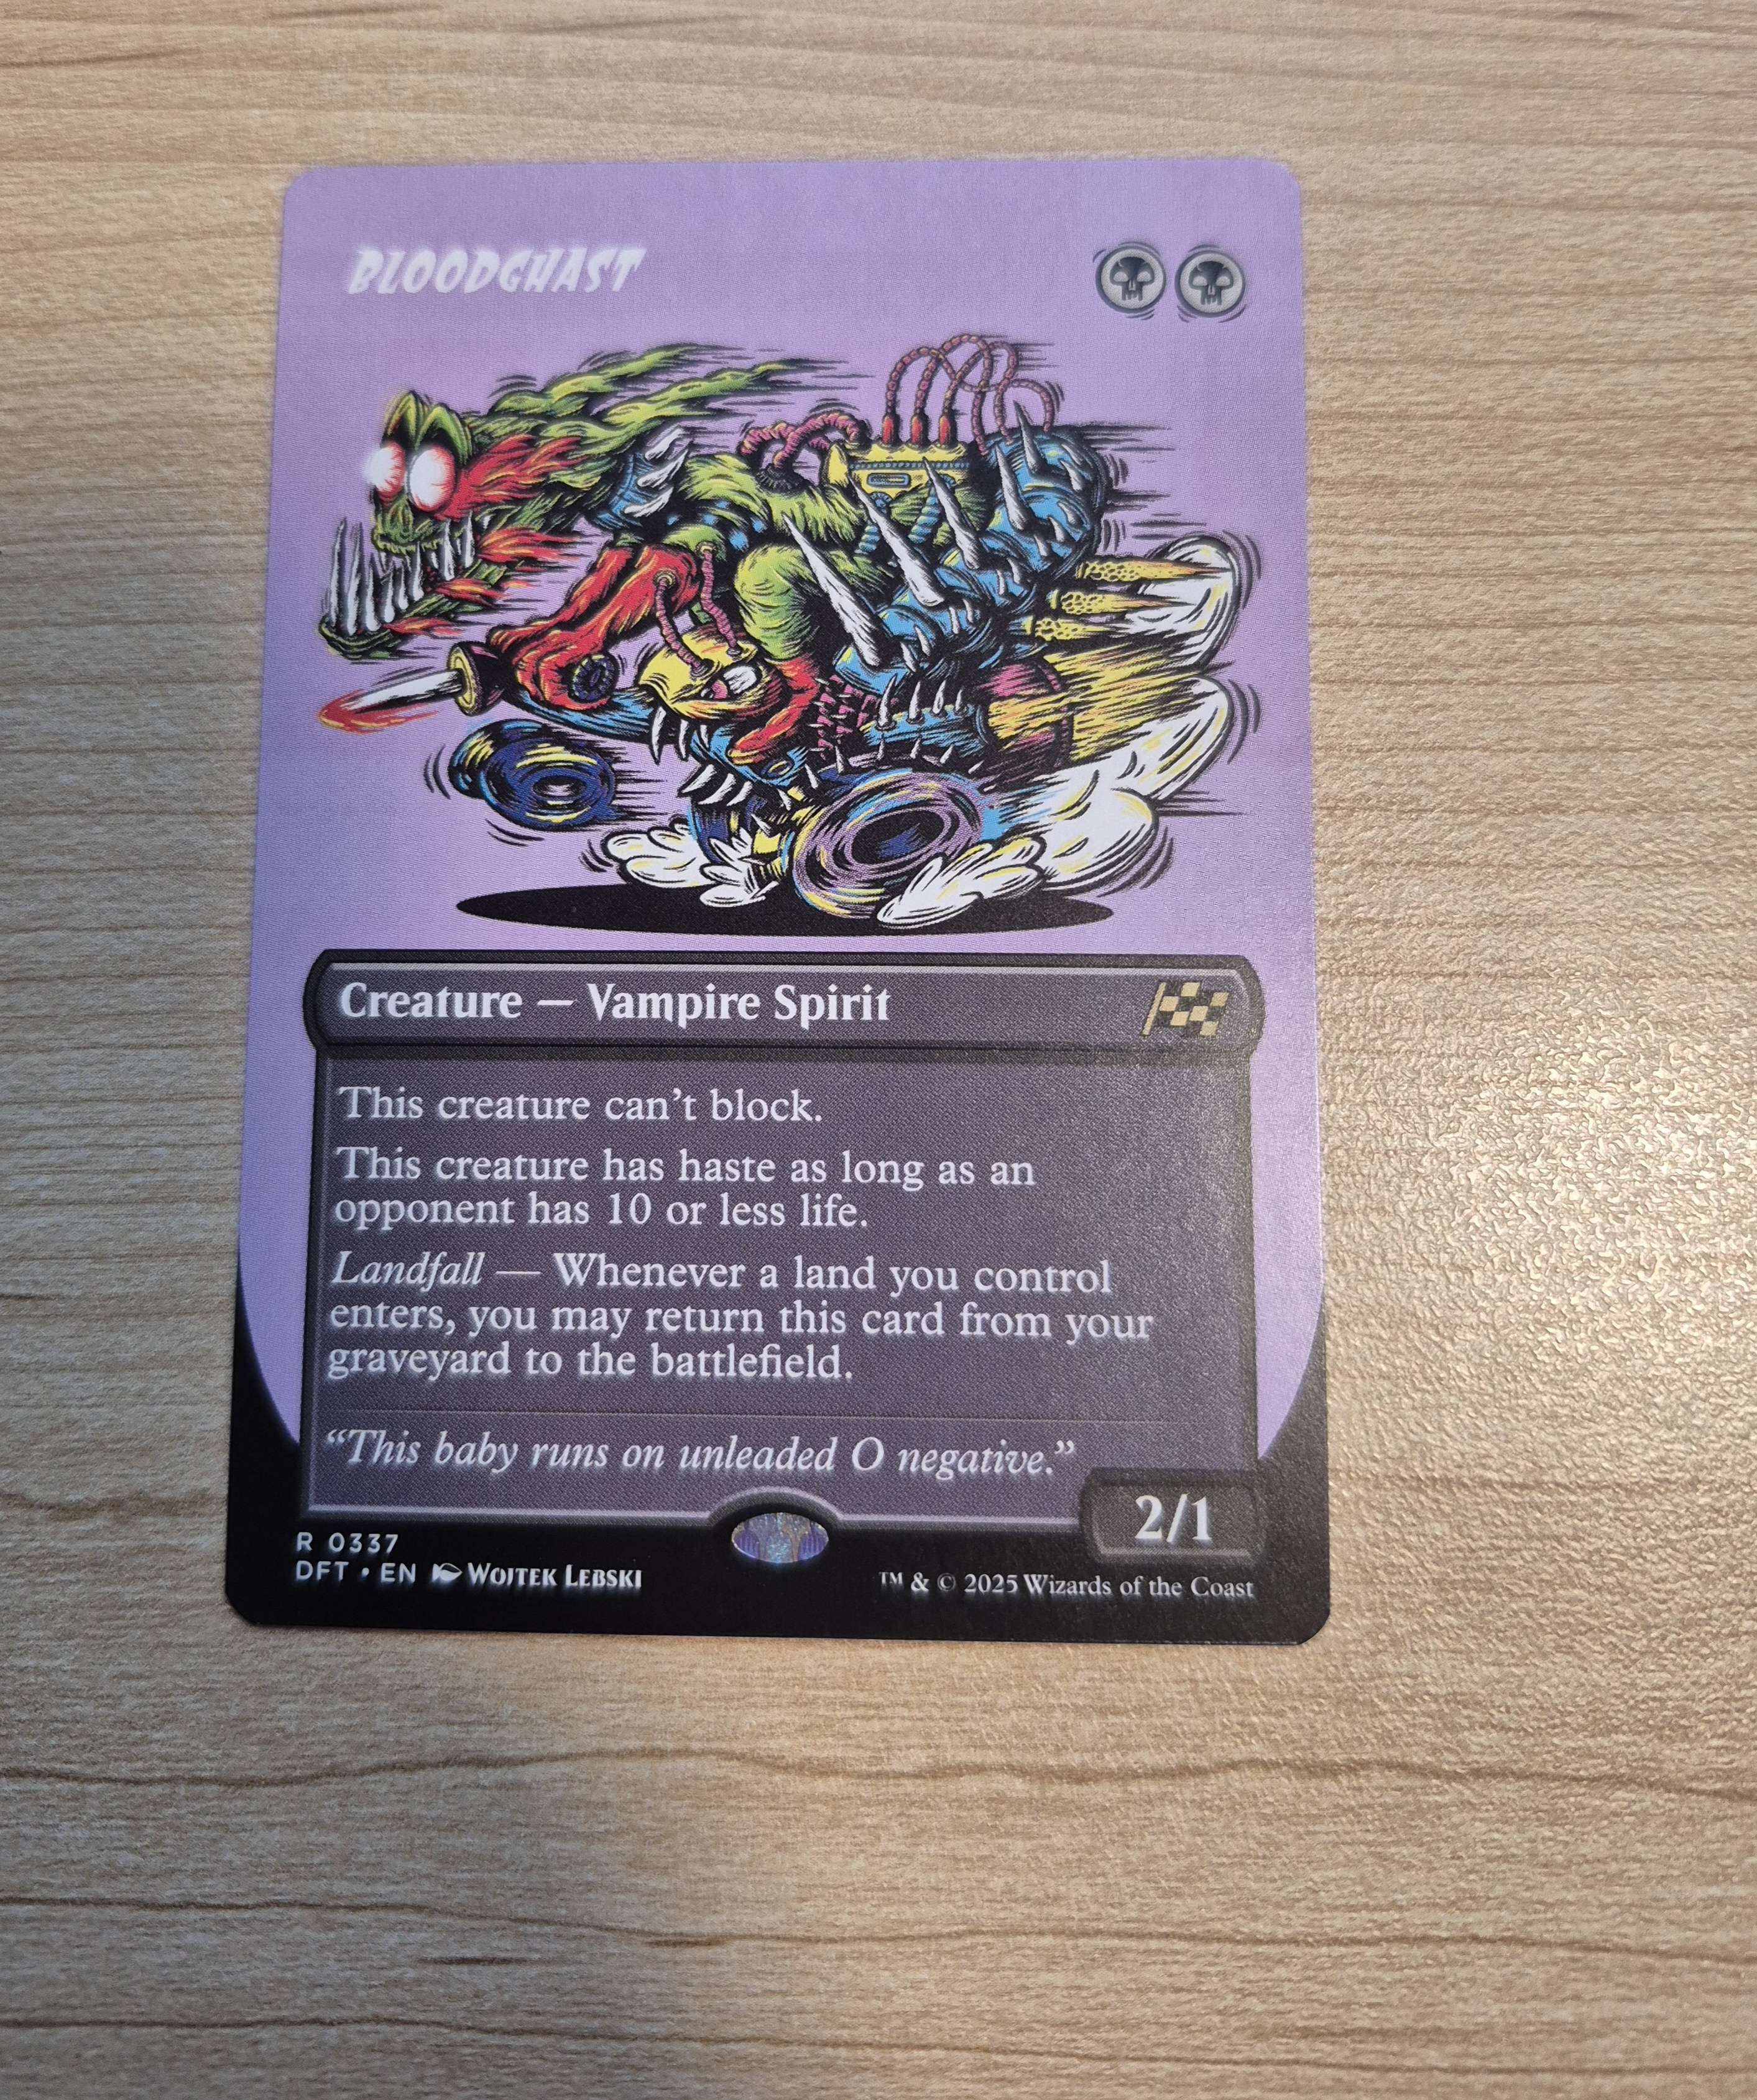mtg_card: (244, 147, 1377, 1676)
